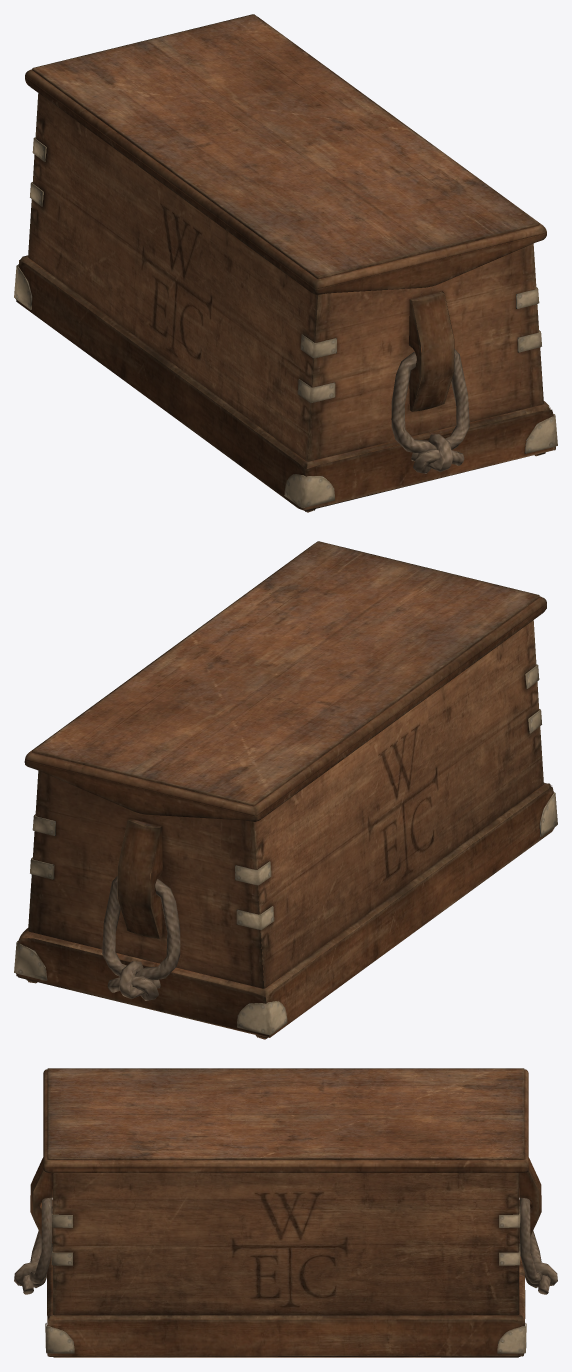
Rendered from wooden_crate_02.glb.
3 renders of one model, top to bottom at view 1: azimuth 30°, elevation 25°; view 2: azimuth 150°, elevation 25°; view 3: azimuth 270°, elevation 25°, orthographic. The views are drawn at different scales.
Parts seen in each view (by area): view 1: wooden_crate_02_crate, wooden_crate_02_lid; view 2: wooden_crate_02_crate, wooden_crate_02_lid; view 3: wooden_crate_02_crate, wooden_crate_02_lid.
Boxes of the visible parts, <box> form: wooden_crate_02_crate: <box>14,93,557,512</box>; wooden_crate_02_lid: <box>25,14,546,295</box>; wooden_crate_02_crate: <box>14,620,557,1039</box>; wooden_crate_02_lid: <box>24,541,546,821</box>; wooden_crate_02_crate: <box>14,1157,557,1357</box>; wooden_crate_02_lid: <box>43,1068,528,1172</box>.
Size of the model in its own units: 0.5291 by 0.4641 by 1.17.
1 material, 1 textured.
